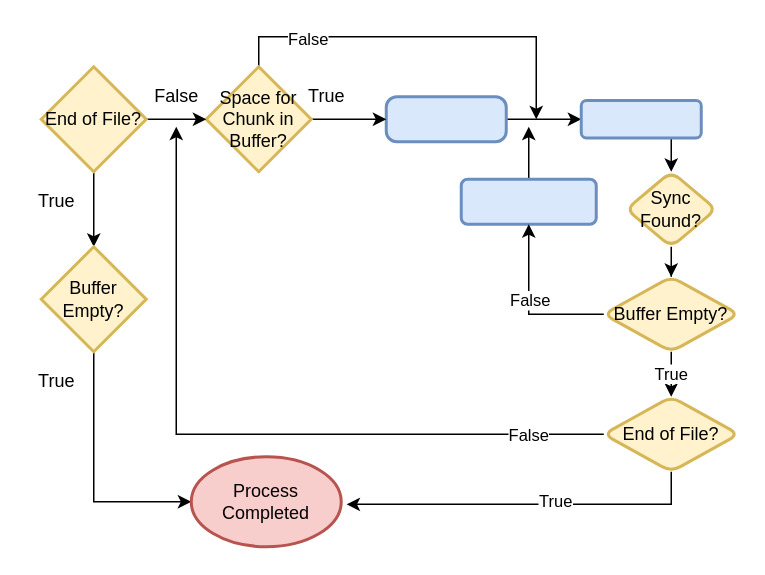
This 765x575 diagram has some shape labels left out. Here are the shapes that lost their labels. From the top down, the centre of each, then its label:
(x=445, y=118): Read Chunk
(x=640, y=118): Access Data at read index
(x=528, y=201): Read Index++
